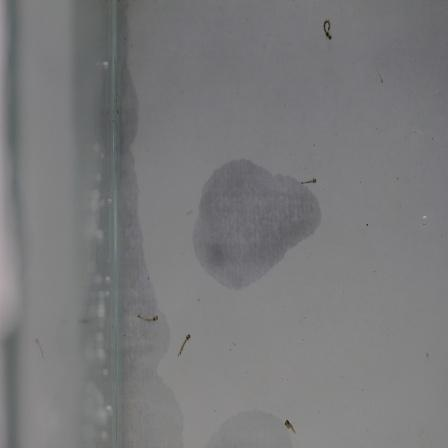Jentik-Nyamuk: (174, 329, 195, 364), (319, 14, 337, 49), (133, 309, 162, 328), (299, 173, 319, 187)
